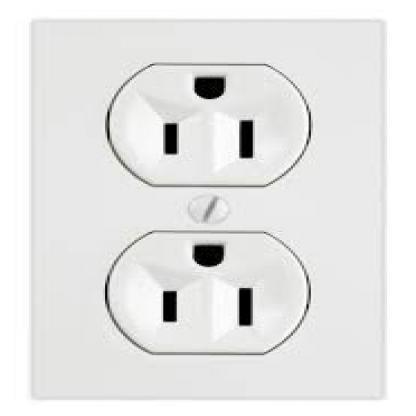OUTLET: (29, 18, 385, 398)
